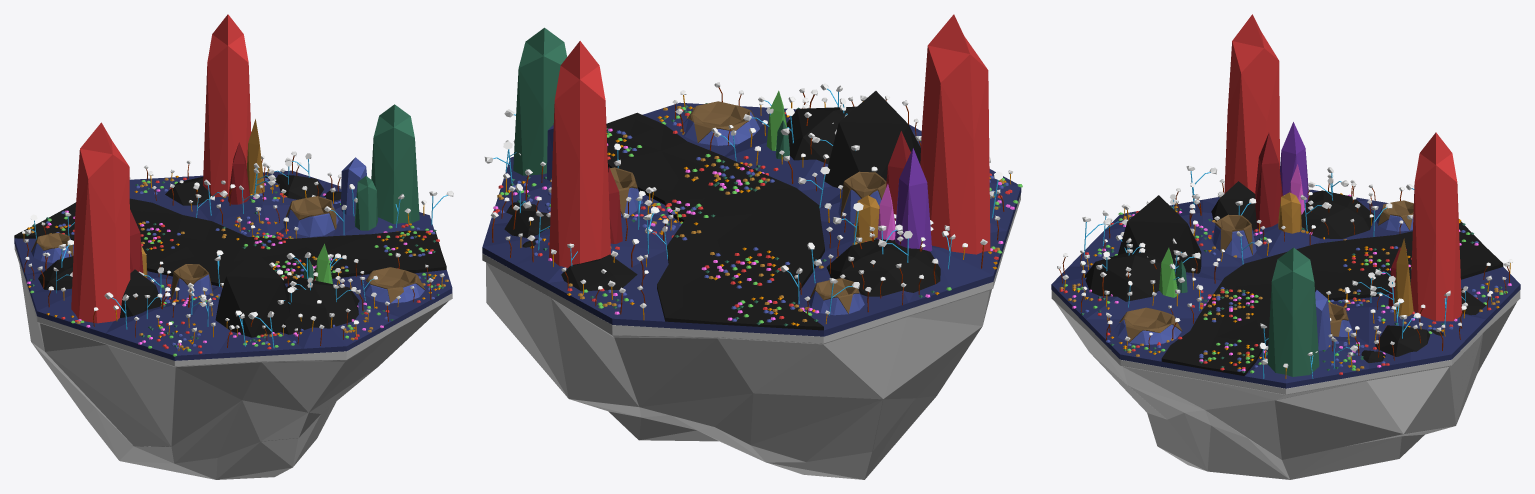
The model's file is Green_planet_base_003.FBX.
3 renders of one model, left to right at view 1: azimuth 30°, elevation 25°; view 2: azimuth 150°, elevation 25°; view 3: azimuth 270°, elevation 25°, orthographic. The views are drawn at different scales.
Parts seen in each view (by area): view 1: 010_GREEN PLANET_BASE_003; view 2: 010_GREEN PLANET_BASE_003; view 3: 010_GREEN PLANET_BASE_003.
Boxes of the visible parts, left/top/right/bottom form: 010_GREEN PLANET_BASE_003: left=14, top=14, right=453, bottom=479; 010_GREEN PLANET_BASE_003: left=482, top=14, right=1022, bottom=479; 010_GREEN PLANET_BASE_003: left=1051, top=14, right=1520, bottom=479.
Bounding box in the file's own units: 1677 × 1510 × 1622.
